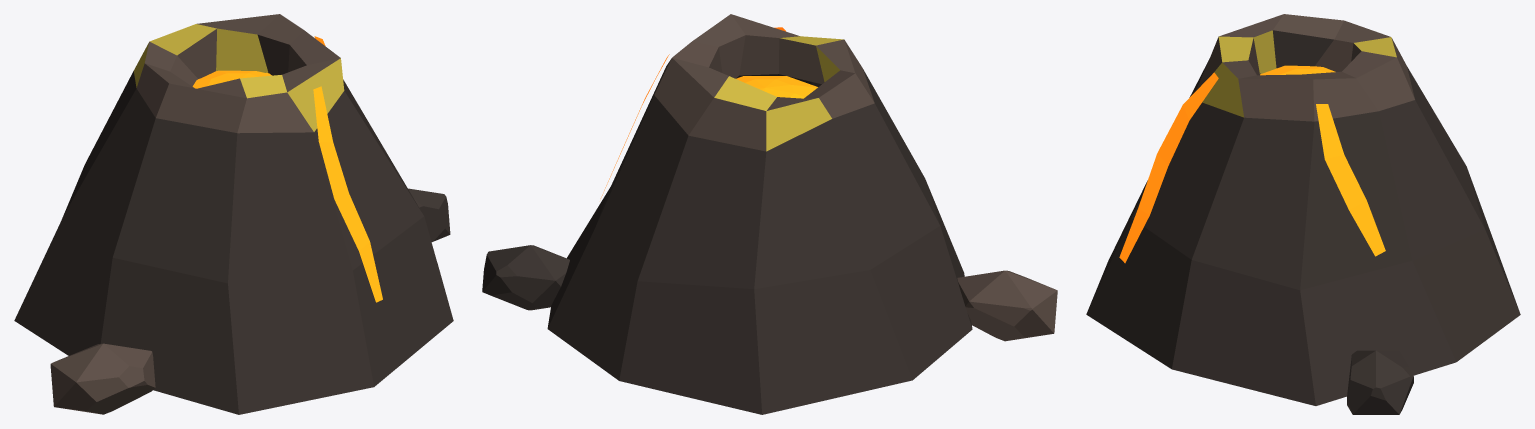
Rendered from steam_vent.glb.
The picture shows the model from 3 angles, left to right: view 1: azimuth 30°, elevation 25°; view 2: azimuth 150°, elevation 25°; view 3: azimuth 270°, elevation 25°; orthographic projection.
Parts seen in each view (by area): view 1: steam_vent; view 2: steam_vent; view 3: steam_vent.
Part boxes in pixels (x1,y1,x2,y2): steam_vent: [14, 14, 453, 414]; steam_vent: [482, 14, 1057, 414]; steam_vent: [1086, 14, 1520, 414].
Bounding box in the file's own units: 1.07 × 0.5943 × 0.85.
